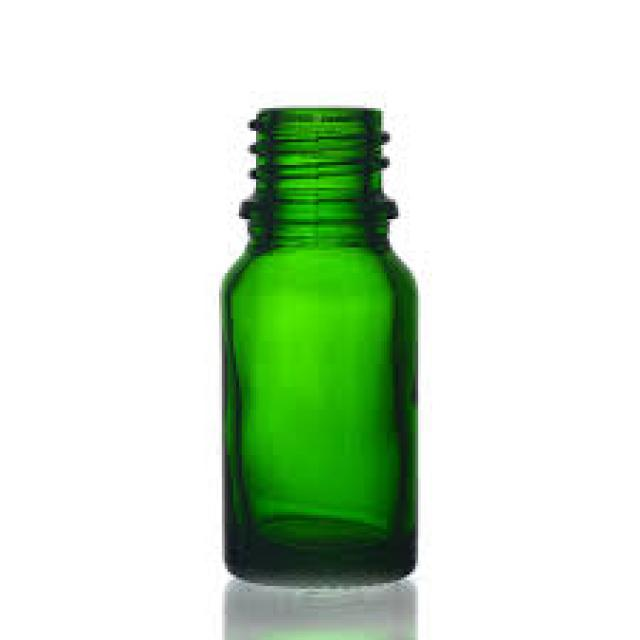glass: (216, 105, 415, 583)
